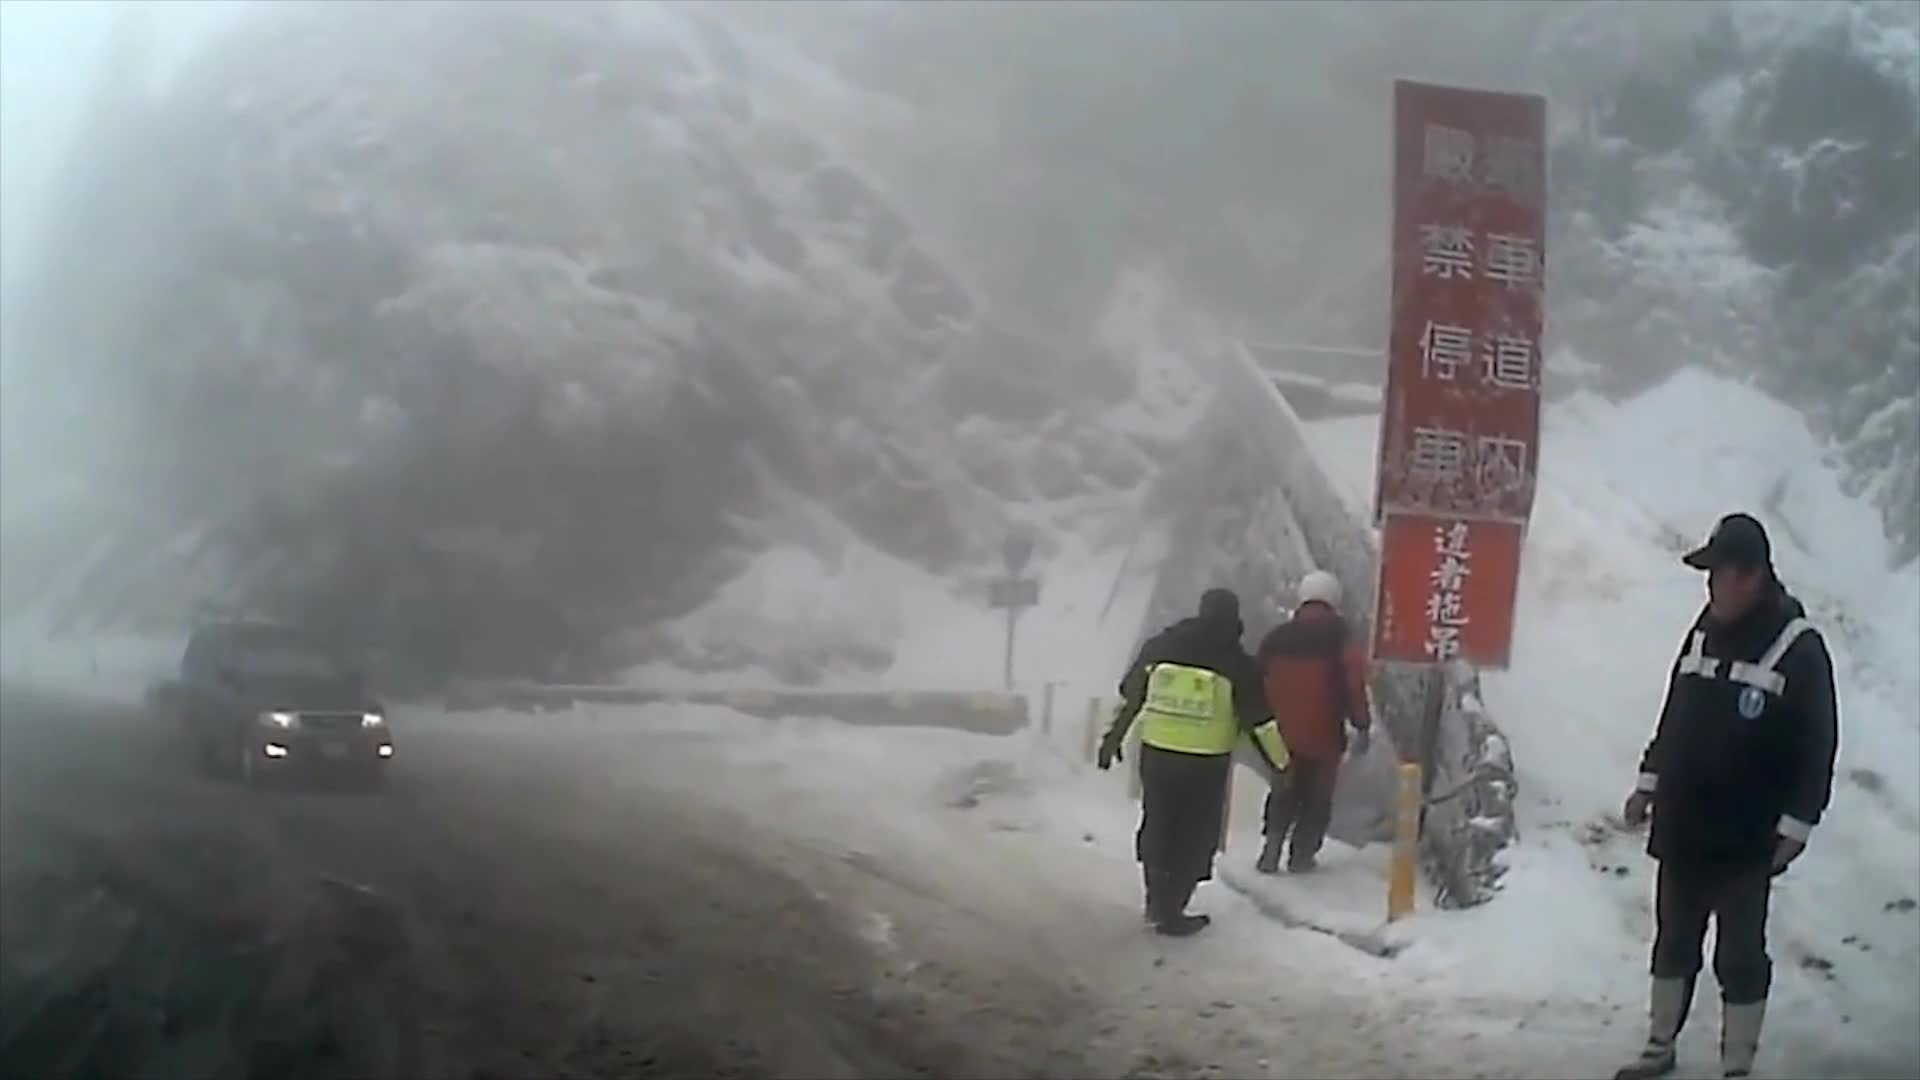pedestrian: (1623, 515, 1843, 1080), (1100, 587, 1281, 937), (1250, 567, 1373, 874)
vehicle: (177, 621, 394, 793)
